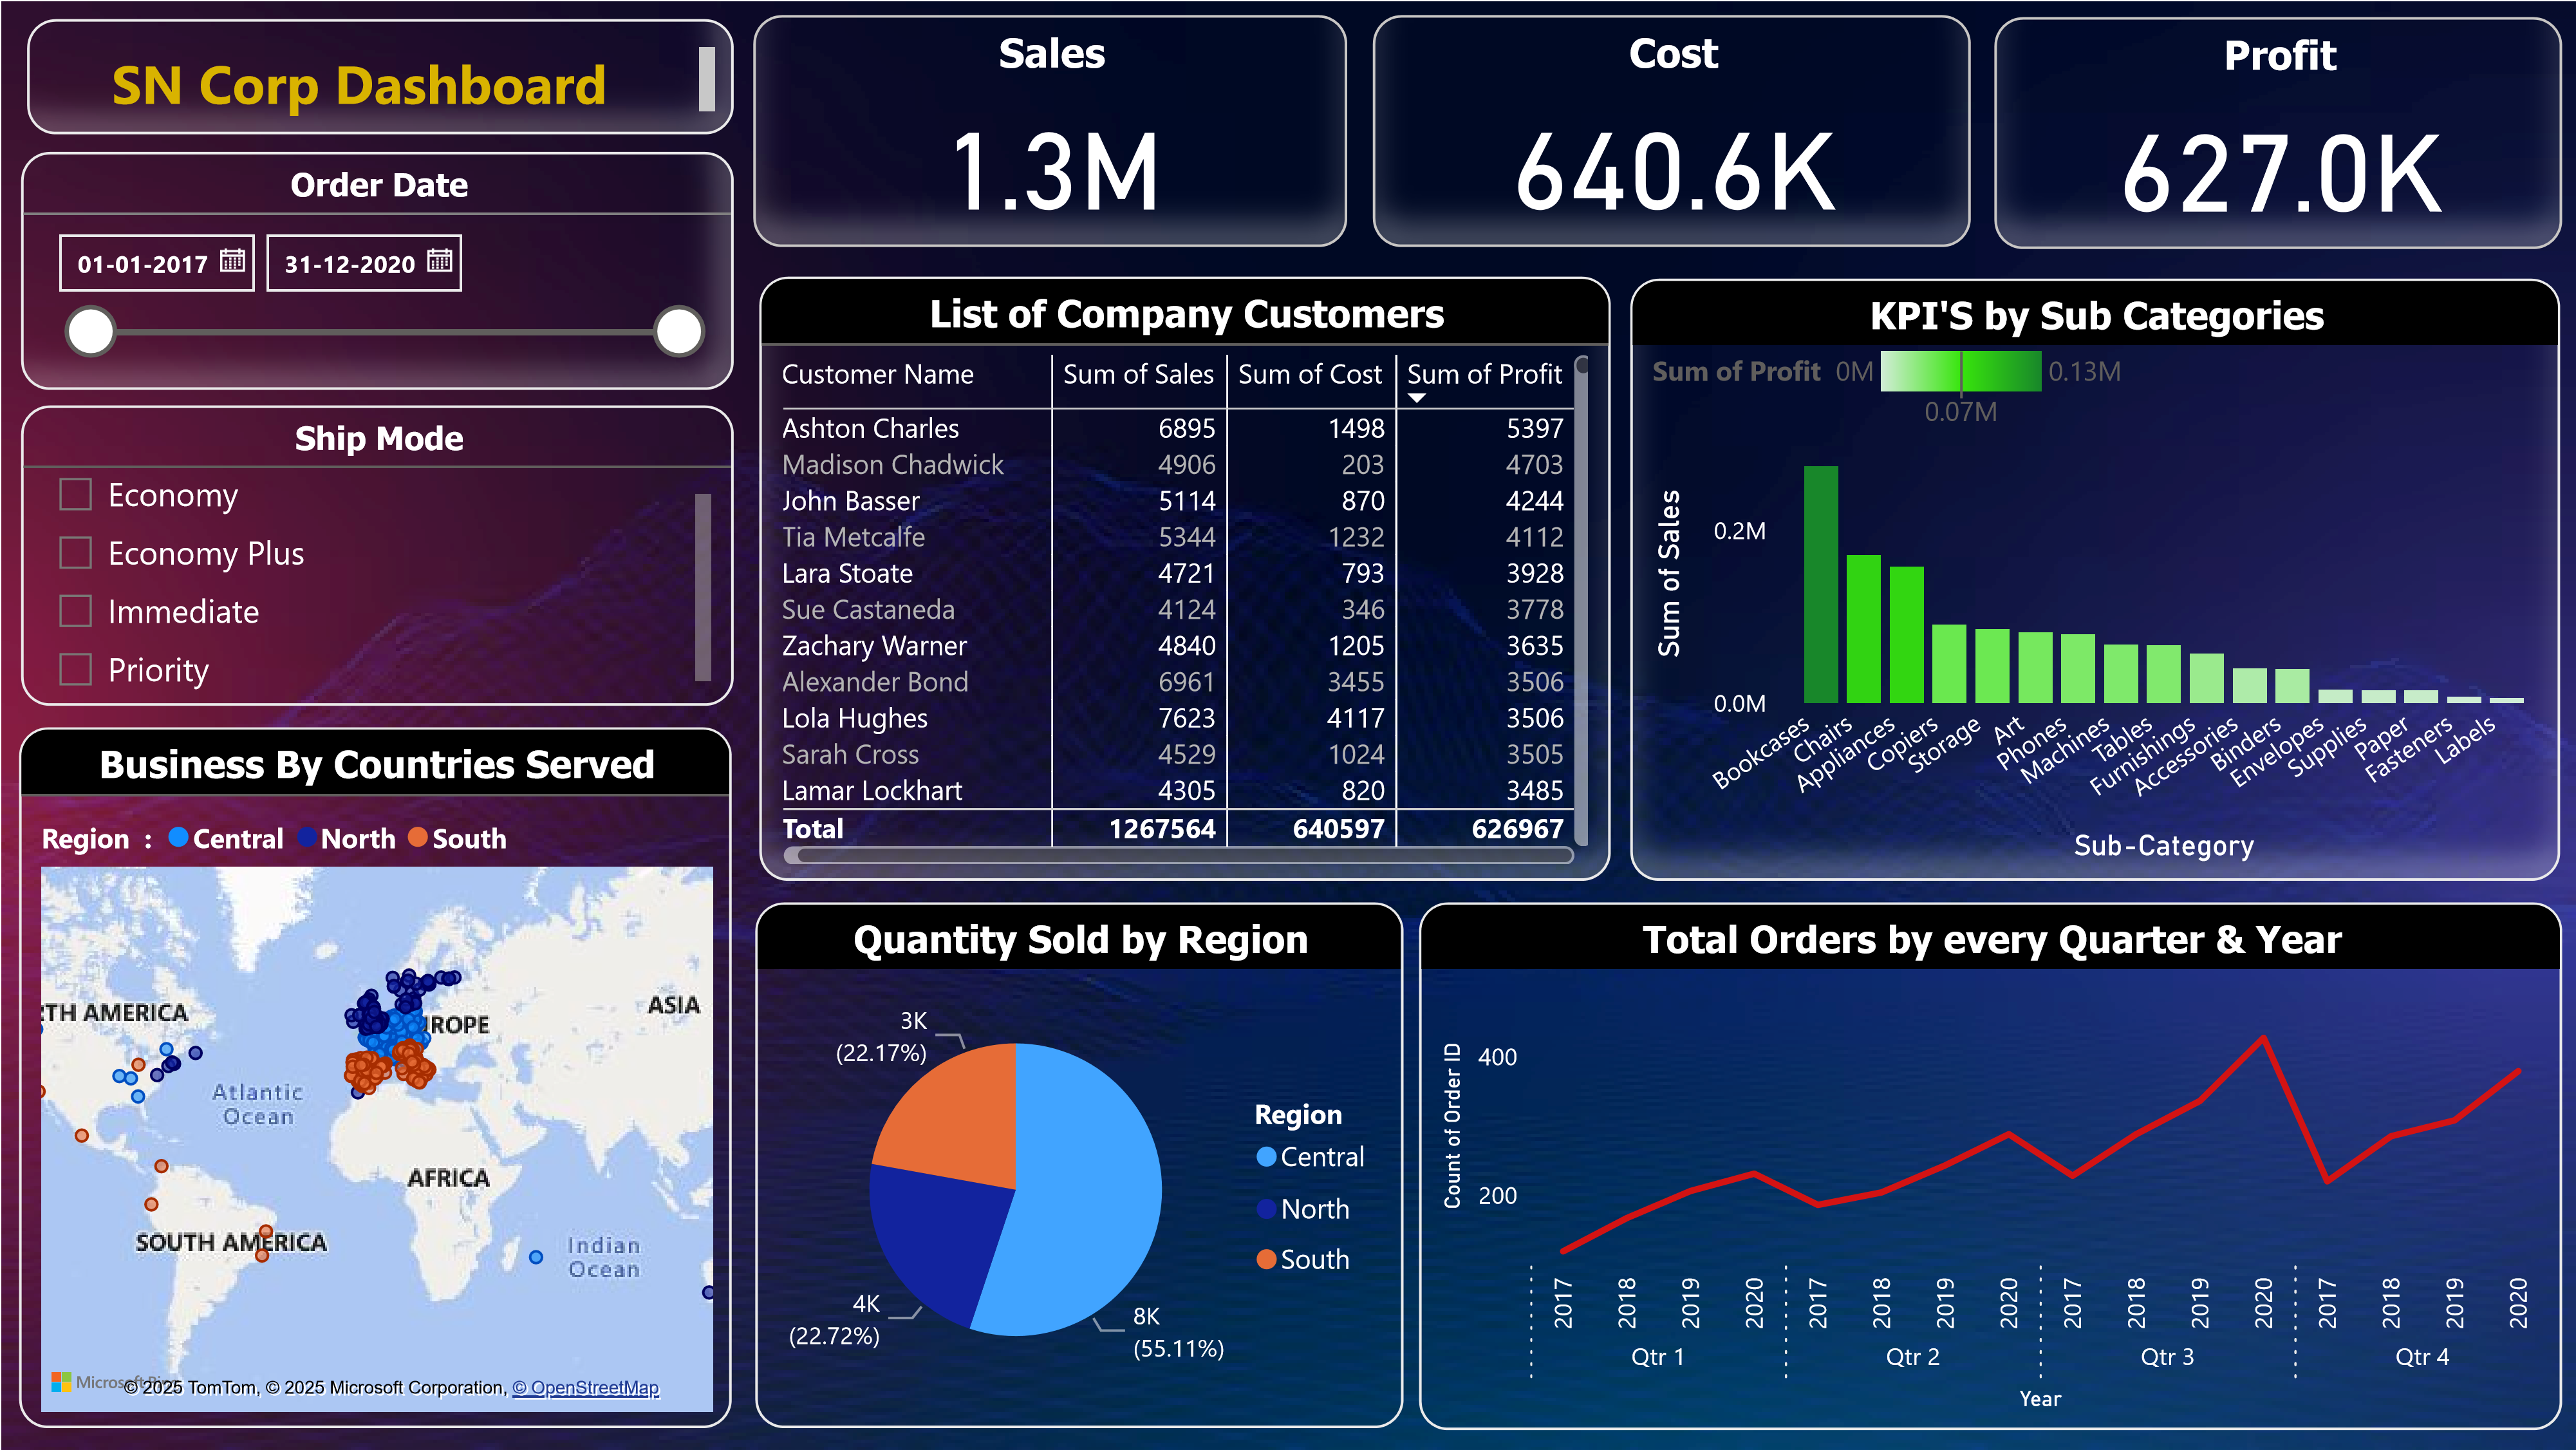

The dashboard page shown, as its layout file describes it:
{"tool":"powerbi","page":{"name":"Product Details","canvas":[1280,720],"ordinal":0},"visuals":[{"type":"card","title":"            Profit","fields":{"Values":["Sum(List of Orders.Profit)"]},"box":[991.2,7.5,281.2,115],"z":0},{"type":"card","title":"Cost","fields":{"Values":["Sum(List of Orders.Cost)"]},"box":[682.3,7.3,297.1,114.9],"z":1000},{"type":"card","title":"Sales","fields":{"Values":["Sum(List of Orders.Sales)"]},"box":[374.2,7.3,294.7,114.9],"z":2000},{"type":"tableEx","title":"List of Company Customers ","fields":{"Values":["List of Orders.Customer Name","Sum(List of Orders.Sales)","Sum(List of Orders.Cost)","Sum(List of Orders.Profit)"]},"box":[376.6,137,423.1,299.6],"z":3000},{"type":"clusteredColumnChart","title":"KPI''S by Sub Categories","fields":{"Category":["List of Orders.Sub-Category"],"Y":["Sum(List of Orders.Sales)"]},"box":[809.5,137.5,462.1,299.2],"z":4000},{"type":"textbox","box":[12.5,8.8,351.2,57.5],"z":5000},{"type":"pieChart","title":"Quantity Sold  by Region","fields":{"Y":["Sum(List of Orders.Quantity)"],"Category":["List of Orders.Region"]},"box":[375.4,447.6,321.6,261.7],"z":6000},{"type":"slicer","title":"Ship Mode","fields":{"Values":["List of Orders.Ship Mode"]},"box":[10,201.2,353.8,148.8],"z":7000},{"type":"slicer","title":"Order Date","fields":{"Values":["List of Orders.Order Date"]},"box":[10,75,353.8,117.5],"z":8000},{"type":"lineChart","title":"Total Orders by every  Quarter &  Year","fields":{"Category":["List of Orders.Order Date.Variation.Date Hierarchy.Quarter","List of Orders.Order Date.Variation.Date Hierarchy.Year"],"Y":["Count(List of Orders.Order ID)"]},"box":[705,447.5,567.5,262.5],"z":9000},{"type":"map","title":"Business By Countries Served","fields":{"Category":["List of Orders.City"],"Series":["List of Orders.Region"]},"box":[8.6,360.7,354.6,348.5],"z":10000}]}

Visuals, with their boxes in screenshot pixels (x1, y1, x2, y2), scaled from the page's 1280x720 canvas onto the 2576x1450 screenshot:
"            Profit" card: (x1=1995, y1=15, x2=2561, y2=247)
"Cost" card: (x1=1373, y1=15, x2=1971, y2=246)
"Sales" card: (x1=753, y1=15, x2=1346, y2=246)
"List of Company Customers " tableEx: (x1=758, y1=276, x2=1609, y2=880)
"KPI''S by Sub Categories" clusteredColumnChart: (x1=1629, y1=277, x2=2559, y2=880)
textbox: (x1=25, y1=18, x2=732, y2=133)
"Quantity Sold  by Region" pieChart: (x1=756, y1=901, x2=1403, y2=1429)
"Ship Mode" slicer: (x1=20, y1=405, x2=732, y2=705)
"Order Date" slicer: (x1=20, y1=151, x2=732, y2=388)
"Total Orders by every  Quarter &  Year" lineChart: (x1=1419, y1=901, x2=2561, y2=1430)
"Business By Countries Served" map: (x1=17, y1=726, x2=731, y2=1428)
